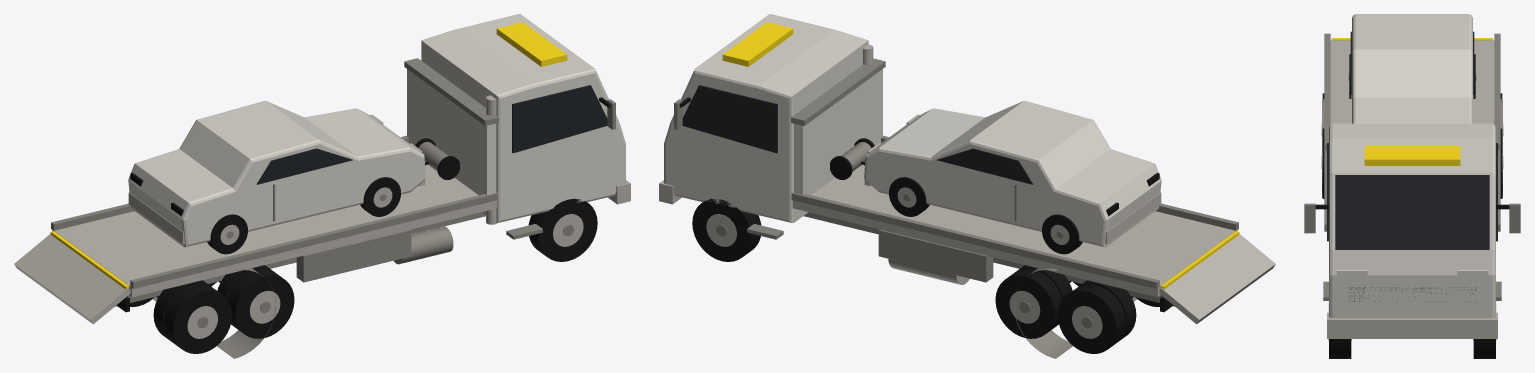
File: rollout-flatbed.glb
3 views of the same model, side by side, from view 1: azimuth 30°, elevation 25°; view 2: azimuth 150°, elevation 25°; view 3: azimuth 270°, elevation 25° (orthographic). The views are drawn at different scales.
Parts seen in each view (by area): view 1: car_body, cab_shell, deck_platform, headboard, rear_ramp_lip, cab_side_glass, deck_rail_l, deck_toolbox_l, wheel_rear_1_l_1_tire, wheel_rear_0_l_1_tire, wheel_front_l_tire, headboard_cap (+14 smaller); view 2: car_body, cab_shell, deck_platform, headboard, rear_ramp_lip, cab_side_glass, deck_rail_r, deck_toolbox_r, wheel_rear_1_r_1_tire, wheel_rear_0_r_1_tire, wheel_front_r_tire, headboard_cap (+14 smaller); view 3: cab_shell, car_body, windshield, bumper, deck_platform, beacon_bar, deck_rail_l, deck_rail_r, wheel_front_l_tire, wheel_front_r_tire, headlight_l, headlight_r (+6 smaller).
Part boxes in pixels (x1,y1,x2,y2): car_body: (128,101,425,247); cab_shell: (421,14,625,222); deck_platform: (52,164,497,297); headboard: (407,69,495,195); rear_ramp_lip: (14,234,130,324); cab_side_glass: (512,85,607,153); deck_rail_l: (130,192,498,288); deck_toolbox_l: (296,229,411,282); wheel_rear_1_l_1_tire: (164,284,232,353); wheel_rear_0_l_1_tire: (227,269,294,338); wheel_front_l_tire: (528,198,597,261); headboard_cap: (404,58,498,125); car_body: (864,101,1161,247); cab_shell: (664,14,868,222); deck_platform: (792,164,1237,297); headboard: (794,69,882,195); rear_ramp_lip: (1159,234,1275,324); cab_side_glass: (682,85,777,153); deck_rail_r: (791,192,1159,288); deck_toolbox_r: (878,229,993,282); wheel_rear_1_r_1_tire: (1057,284,1125,353); wheel_rear_0_r_1_tire: (995,269,1062,338); wheel_front_r_tire: (692,199,761,261); headboard_cap: (791,58,885,125); cab_shell: (1329,123,1495,318); car_body: (1352,14,1472,123); windshield: (1335,175,1489,249); bumper: (1327,312,1497,338); deck_platform: (1327,40,1497,241); beacon_bar: (1364,146,1460,165); deck_rail_l: (1324,33,1330,231); deck_rail_r: (1494,33,1500,231); wheel_front_l_tire: (1329,339,1351,358); wheel_front_r_tire: (1473,339,1495,358); headlight_l: (1336,270,1367,283); headlight_r: (1457,270,1488,283).
Bounding box in the file's own units: 9.5 × 3.43 × 3.08.
